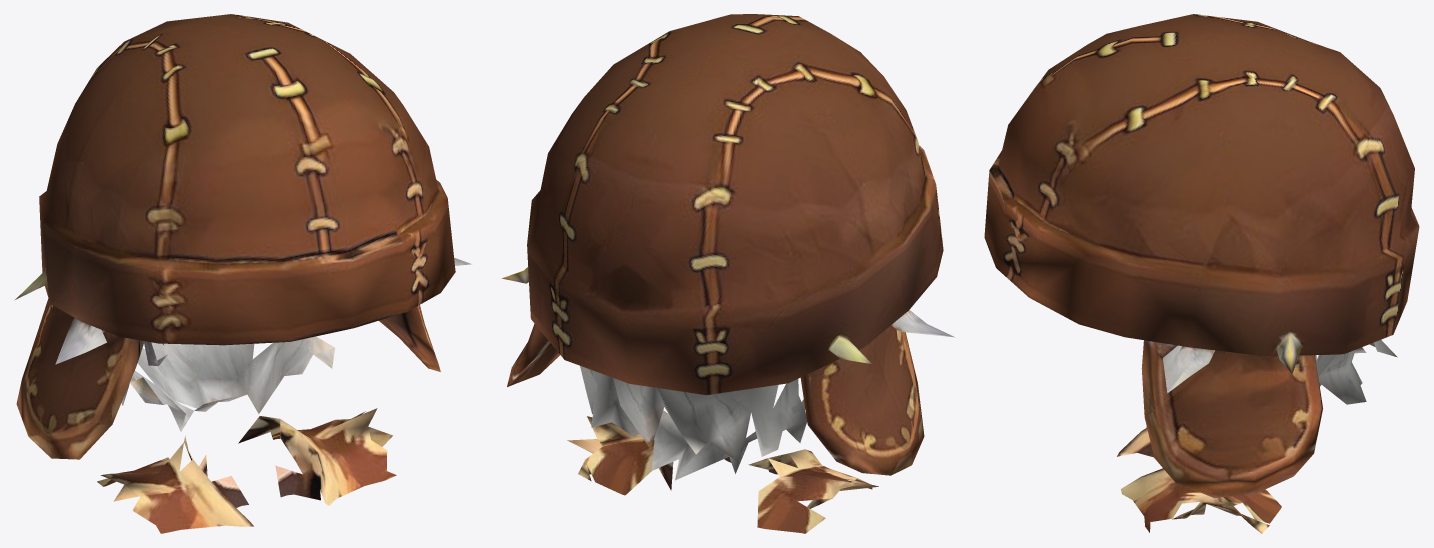
File: leather_cap.glb
3 renders of one model, left to right at view 1: azimuth 30°, elevation 25°; view 2: azimuth 150°, elevation 25°; view 3: azimuth 270°, elevation 25°, orthographic. The views are drawn at different scales.
Parts seen in each view (by area): view 1: Mesh_0; view 2: Mesh_0; view 3: Mesh_0.
Part boxes in pixels (left/top/right/bottom): Mesh_0: left=15, top=14, right=471, bottom=533; Mesh_0: left=501, top=14, right=954, bottom=533; Mesh_0: left=984, top=14, right=1419, bottom=533.
Size of the model in its own units: 0.3405 by 0.3484 by 0.3145.
1 material, 1 textured.
